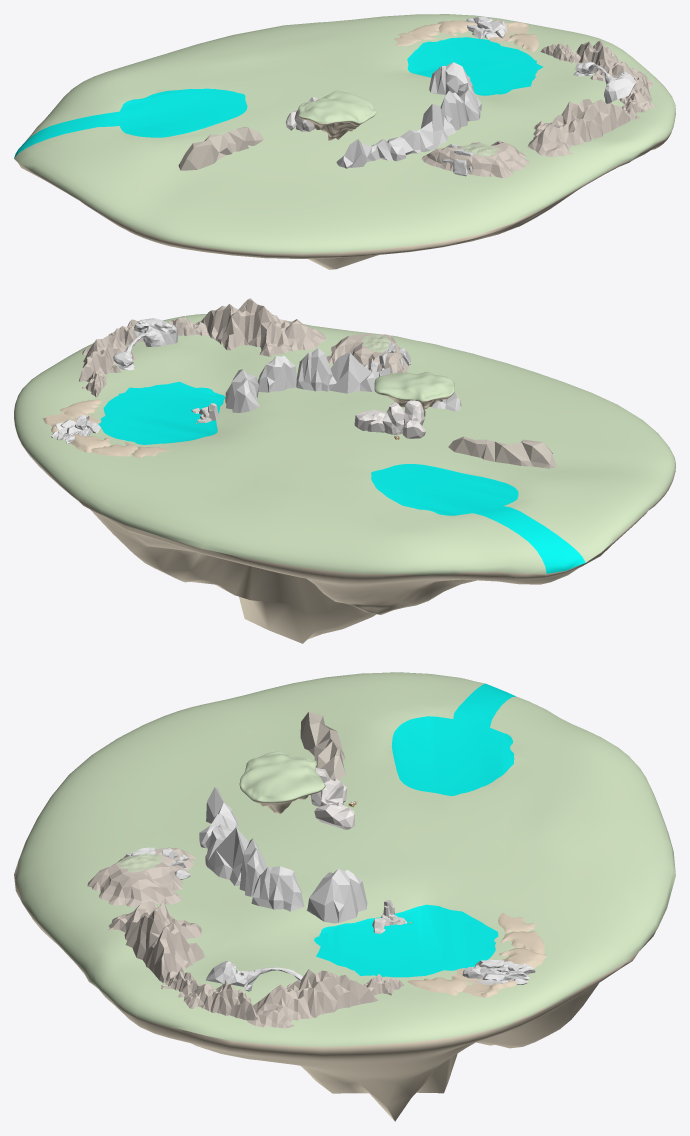
Rendered from land001.gltf.
3 views of the same model, one above another, from view 1: azimuth 30°, elevation 25°; view 2: azimuth 150°, elevation 25°; view 3: azimuth 270°, elevation 25° (orthographic). The views are drawn at different scales.
Visible parts, largest first — view 1: node_land__233248, node_mounth_-242744, node_land__232654, node_land__233214, node_Terrain_Rock_Mound_01_233026, node_land_-351528, node_land__233850, node_land__233368, node_Rock_Chunks_Large_01__2__1_232788, node_land__235868, node_land__233274, node_Terrain_Rock_Mound_01__3__2_235504 (+2 smaller); view 2: node_land__233248, node_mounth_-242744, node_land__232654, node_land__233214, node_land_-351528, node_Terrain_Rock_Mound_01_233026, node_land__233368, node_land__233850, node_Rock_Chunks_Large_01__2__1_232788; view 3: node_land__233248, node_mounth_-242744, node_land__232654, node_land__233850, node_land__233214, node_Terrain_Rock_Mound_01_233026, node_land_-351528, node_land__235868, node_Rock_Chunks_Large_01__2__1_232788, node_land__233368, node_Terrain_Rock_Mound_01__3__1_235556, node_Terrain_Rock_Mound_Shelf_02_232728.
Boxes of the visible parts, x1,y1,x2,y2 form: node_land__233248: [14, 14, 675, 269]; node_mounth_-242744: [285, 62, 481, 168]; node_land__232654: [527, 99, 631, 156]; node_land__233214: [298, 90, 376, 140]; node_Terrain_Rock_Mound_01_233026: [421, 141, 529, 178]; node_land_-351528: [178, 126, 263, 170]; node_land__233850: [574, 40, 652, 88]; node_land__233368: [573, 61, 636, 103]; node_Rock_Chunks_Large_01__2__1_232788: [466, 15, 507, 39]; node_land__235868: [619, 75, 655, 110]; node_land__233274: [540, 43, 580, 63]; node_Terrain_Rock_Mound_01__3__2_235504: [438, 20, 477, 36]; node_land__233248: [14, 314, 675, 643]; node_mounth_-242744: [225, 348, 461, 438]; node_land__232654: [200, 298, 326, 356]; node_land__233214: [374, 371, 454, 416]; node_land_-351528: [448, 436, 556, 468]; node_Terrain_Rock_Mound_01_233026: [326, 333, 408, 373]; node_land__233368: [113, 318, 178, 370]; node_land__233850: [79, 335, 136, 381]; node_Rock_Chunks_Large_01__2__1_232788: [50, 415, 101, 443]; node_land__233248: [14, 672, 675, 1121]; node_mounth_-242744: [199, 768, 367, 923]; node_land__232654: [107, 901, 204, 983]; node_land__233850: [247, 969, 378, 1028]; node_land__233214: [239, 751, 325, 813]; node_Terrain_Rock_Mound_01_233026: [87, 847, 195, 907]; node_land_-351528: [300, 712, 345, 780]; node_land__235868: [183, 980, 257, 1020]; node_Rock_Chunks_Large_01__2__1_232788: [462, 959, 535, 984]; node_land__233368: [206, 961, 303, 991]; node_Terrain_Rock_Mound_01__3__1_235556: [407, 976, 467, 995]; node_Terrain_Rock_Mound_Shelf_02_232728: [451, 968, 516, 997].
Size of the model in its own units: 178 by 64.57 by 138.
